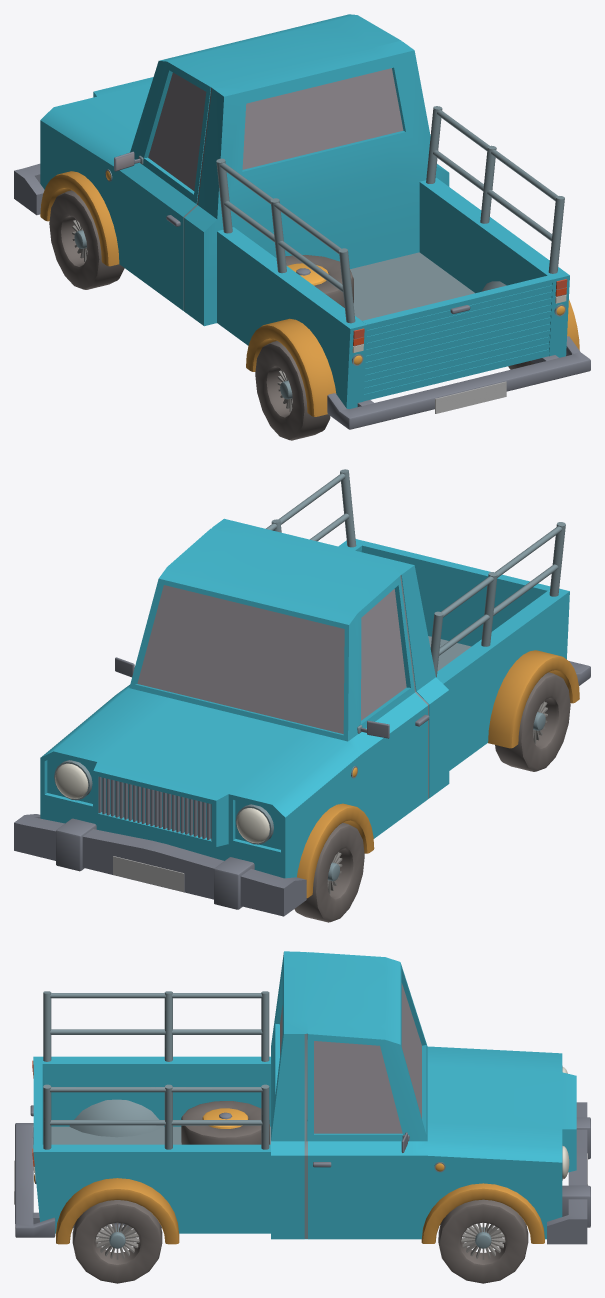
Rendered from pickup_truck_31d59bae.glb.
The picture shows the model from 3 angles, top to bottom: view 1: azimuth 30°, elevation 25°; view 2: azimuth 150°, elevation 25°; view 3: azimuth 270°, elevation 25°; orthographic projection. The views are drawn at different scales.
Size of the model in its own units: 628 by 575 by 1283.
